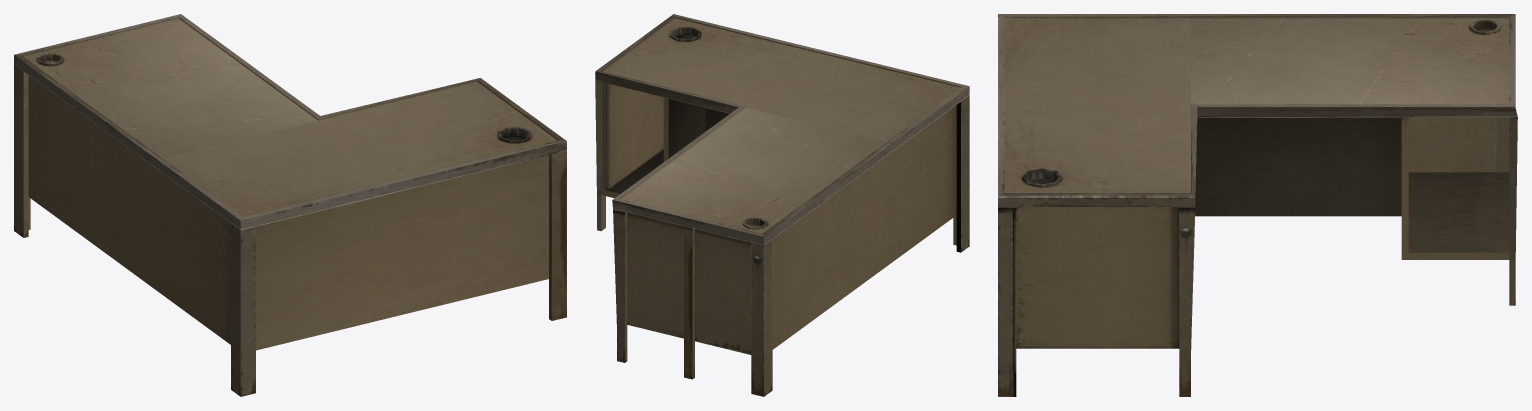
The model's file is 办公桌.fbx.
3 renders of one model, left to right at view 1: azimuth 30°, elevation 25°; view 2: azimuth 150°, elevation 25°; view 3: azimuth 270°, elevation 25°, orthographic. The views are drawn at different scales.
Parts seen in each view (by area): view 1: Cube.007; view 2: Cube.007; view 3: Cube.007.
Part boxes in pixels (x1=…): Cube.007: x1=14, y1=14, x2=566, y2=396; Cube.007: x1=595, y1=14, x2=969, y2=396; Cube.007: x1=998, y1=14, x2=1517, y2=396.
Size of the model in its own units: 303 by 157 by 367.
Materials: 1 (1 with a texture image).
